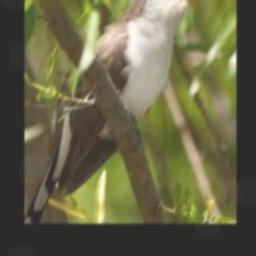Cuckoo: (25, 0, 210, 221)
